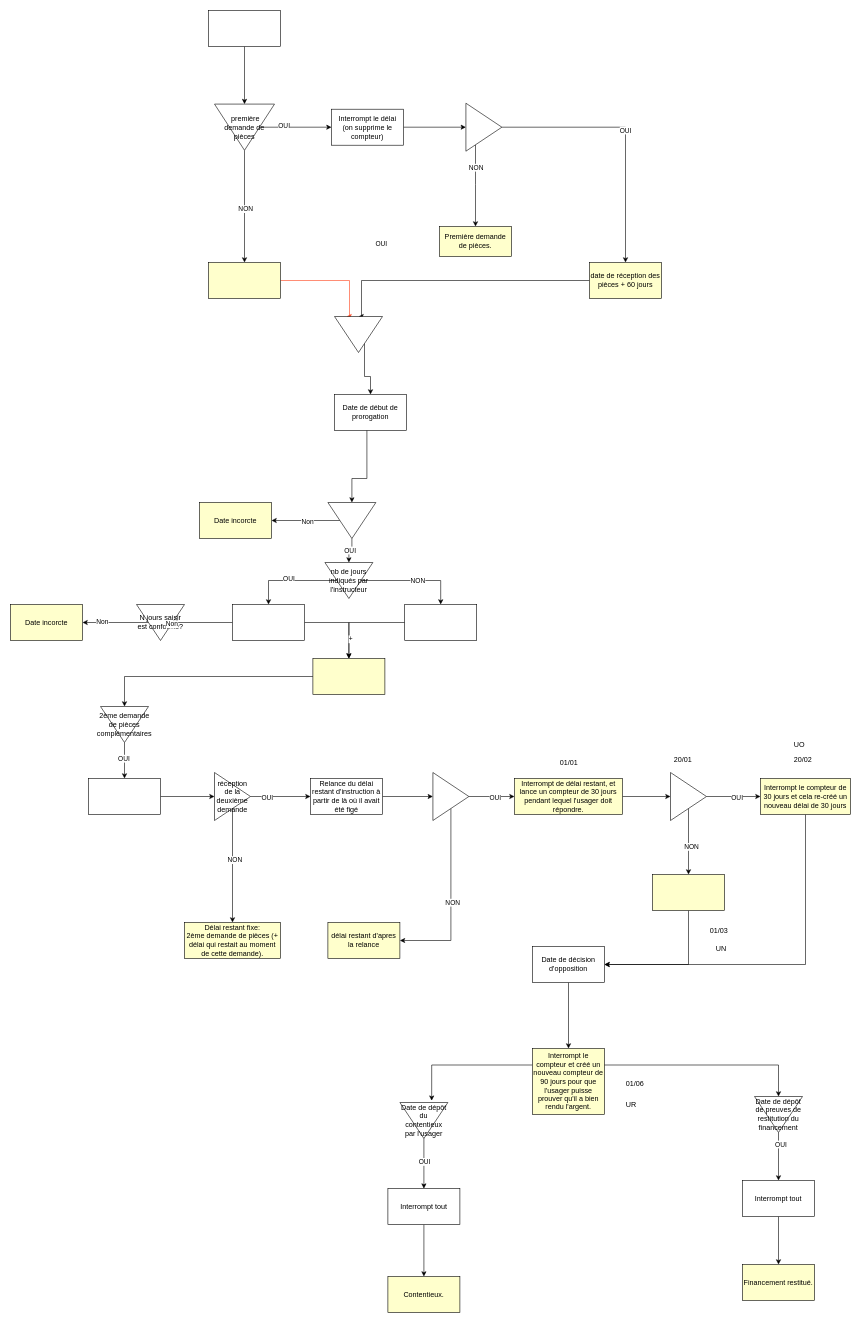
This 861x1323 diagram has some shape labels left out. The shapes that lost their labels are listed below. From the top down, each one's centre as x and y in pixels, then its label:
point 244,28: Dépôt du dossier
point 483,127: réception des pièces
point 244,280: (Date dépôt du dossier + 60 Jous)
point 358,334: prorogation
point 351,520: La date saisir est conforme?
point 268,622: N jours
point 440,622: défaut 120 jours
point 348,676: le nombre de jours qu'il restait avant cet événement
point 124,796: Interrompt le délai d'instruction en cours (on fige le délai là où il en est)
point 450,796: Date de l'intention d'opposition
point 688,796: Date de réponse de l'usager
point 688,892: un nouveau délai de 30 jours pour que l'administration se prononce
